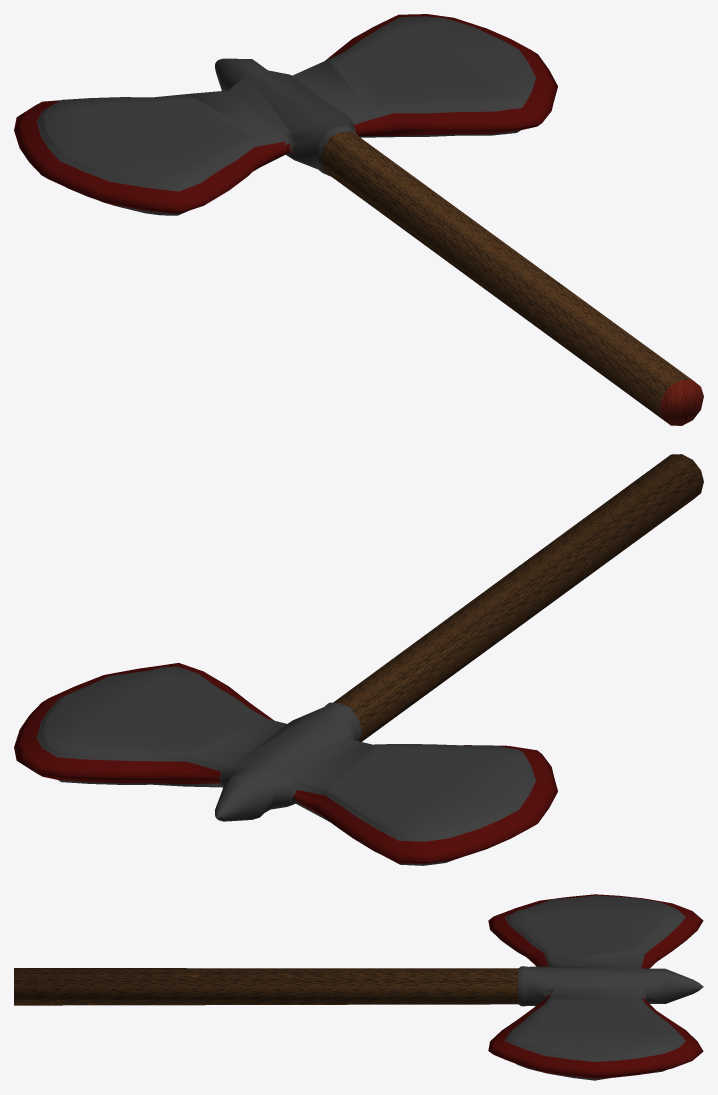
Rendered from Axe.fbx.
3 views of the same model, one above another, from view 1: azimuth 30°, elevation 25°; view 2: azimuth 150°, elevation 25°; view 3: azimuth 270°, elevation 25° (orthographic). The views are drawn at different scales.
Visible parts, largest first — view 1: Axe; view 2: Axe; view 3: Axe.
Part boxes in pixels (x1,y1,x2,y2): Axe: (14,14,703,425); Axe: (14,454,703,865); Axe: (14,894,703,1080).
Size of the model in its own units: 283 by 26.82 by 460.
